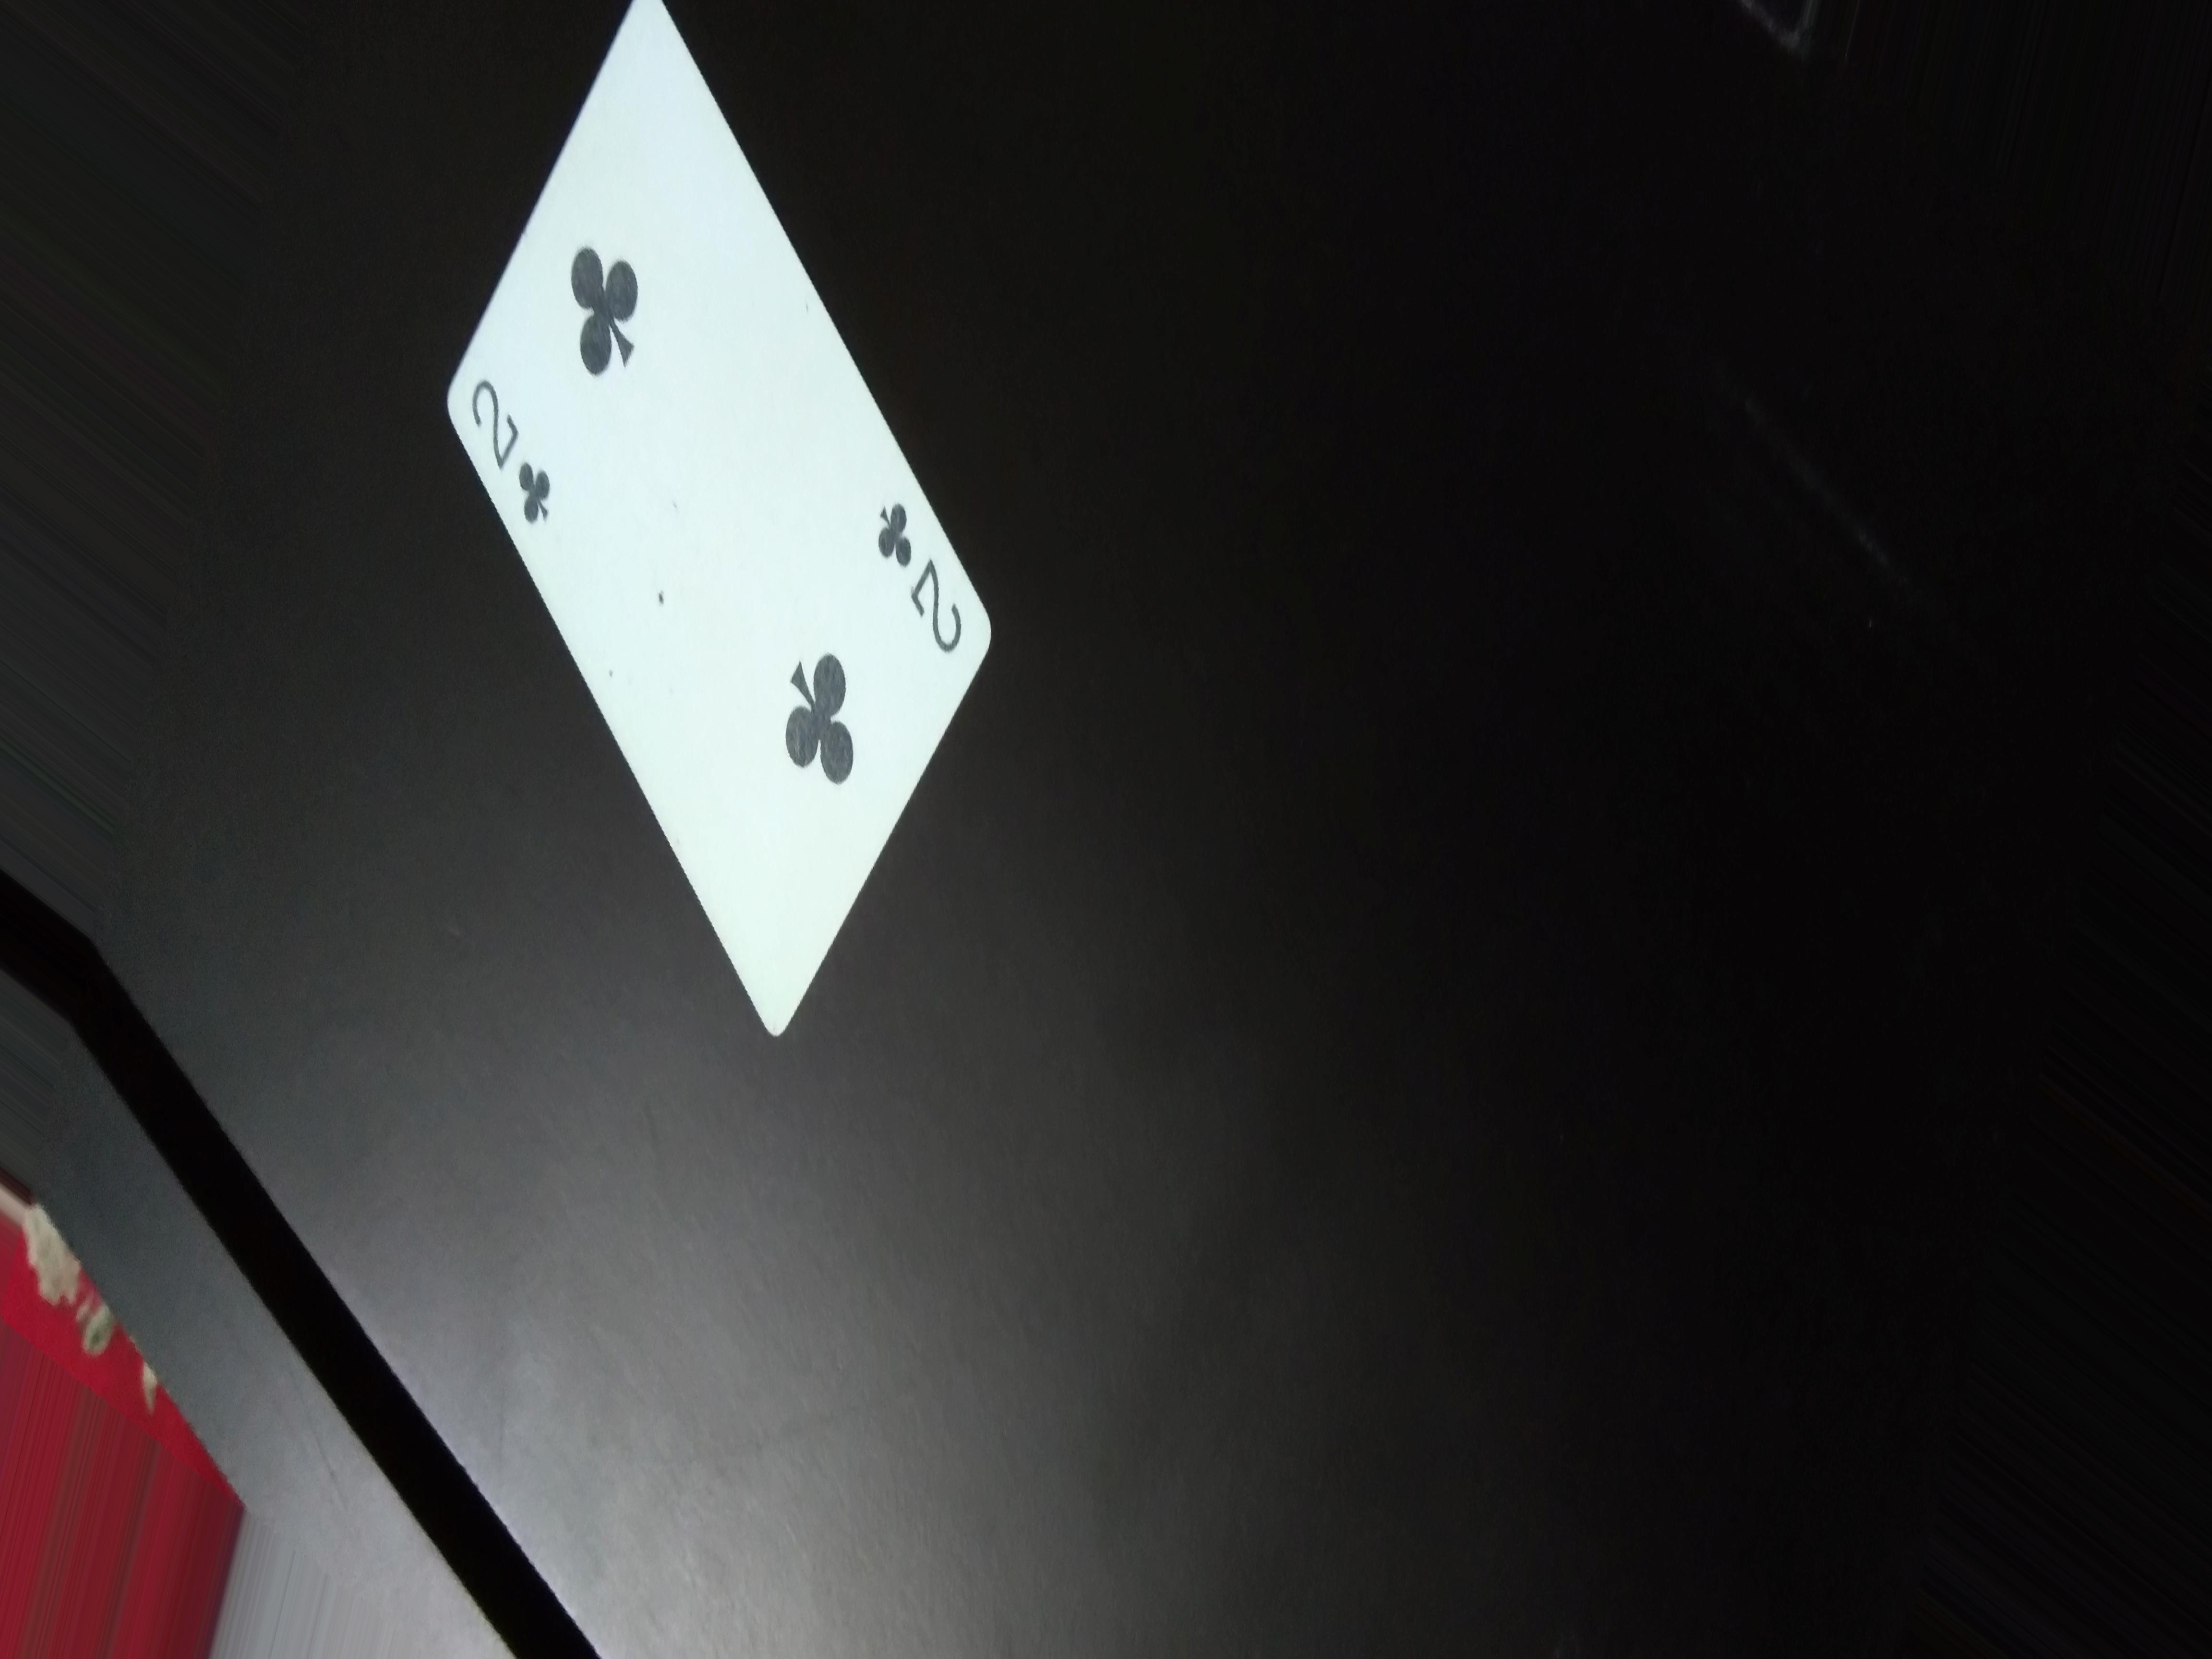2C: (472, 357, 550, 535)
